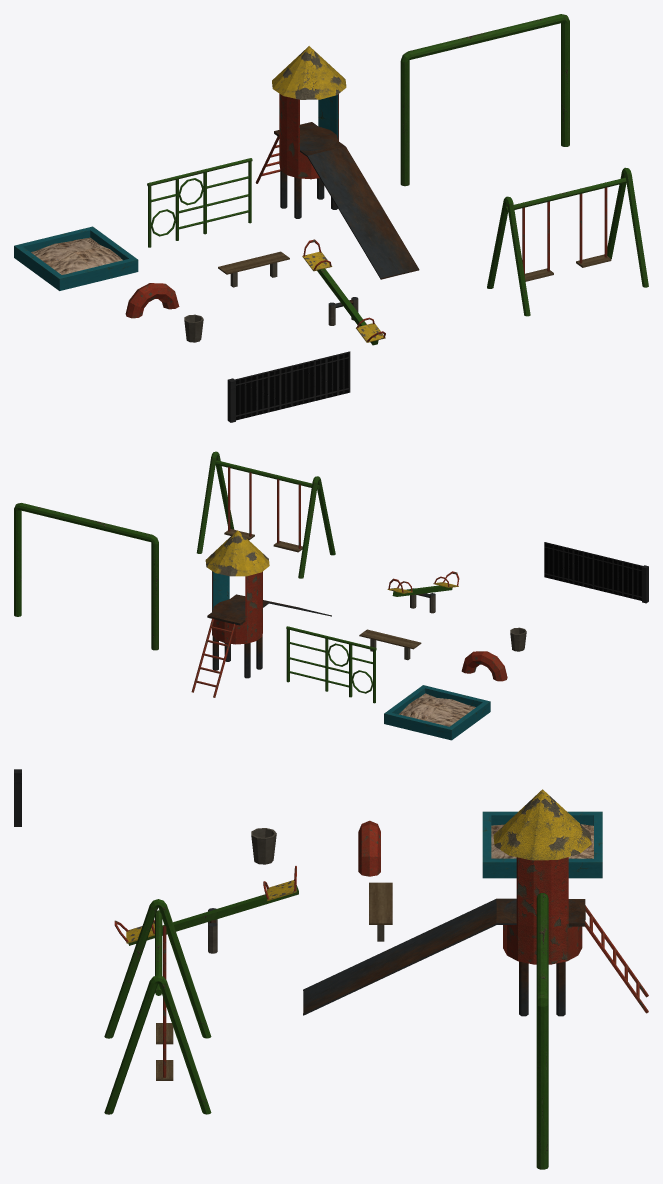
File: Playground.fbx
The picture shows the model from 3 angles, top to bottom: view 1: azimuth 30°, elevation 25°; view 2: azimuth 150°, elevation 25°; view 3: azimuth 270°, elevation 25°; orthographic projection. The views are drawn at different scales.
Parts seen in each view (by area): view 1: Slide, Sandbox, FencePanel, Arch_1, SwingBase, Ladder_2, Seesaw, Arch_2, Bench, Swing.001, Swing; view 2: Slide, Sandbox, FencePanel, Arch_1, SwingBase, Ladder_2, Arch_2, Ladder_1, Seesaw, Bench, Swing, Swing.001; view 3: Slide, SwingBase, Arch_1, Sandbox, Seesaw, Arch_2, Bench, Ladder_1, TrashBucket, Swing.001.
Boxes of the visible parts, left/top/right/bottom form: Slide: left=272, top=46, right=419, bottom=279; Sandbox: left=14, top=226, right=138, bottom=290; FencePanel: left=235, top=351, right=350, bottom=420; Arch_1: left=400, top=14, right=569, bottom=186; SwingBase: left=487, top=167, right=648, bottom=316; Ladder_2: left=147, top=158, right=252, bottom=247; Seesaw: left=302, top=239, right=385, bottom=345; Arch_2: left=125, top=283, right=179, bottom=318; Bench: left=218, top=251, right=289, bottom=287; Swing.001: left=576, top=182, right=611, bottom=267; Swing: left=522, top=201, right=553, bottom=281; Slide: left=205, top=530, right=331, bottom=678; Sandbox: left=384, top=685, right=490, bottom=740; FencePanel: left=544, top=542, right=642, bottom=600; Arch_1: left=14, top=503, right=158, bottom=650; SwingBase: left=196, top=451, right=335, bottom=578; Ladder_2: left=286, top=626, right=376, bottom=703; Arch_2: left=461, top=651, right=507, bottom=681; Ladder_1: left=191, top=618, right=235, bottom=697; Seesaw: left=387, top=571, right=459, bottom=596; Bench: left=359, top=629, right=421, bottom=660; Swing: left=273, top=479, right=302, bottom=552; Swing.001: left=224, top=467, right=254, bottom=540; Slide: left=303, top=789, right=591, bottom=1016; SwingBase: left=104, top=899, right=211, bottom=1114; Arch_1: left=536, top=893, right=548, bottom=1169; Sandbox: left=482, top=811, right=602, bottom=878; Seesaw: left=114, top=866, right=298, bottom=945; Arch_2: left=358, top=820, right=380, bottom=876; Bench: left=369, top=882, right=392, bottom=941; Ladder_1: left=585, top=905, right=648, bottom=1013; TrashBucket: left=251, top=828, right=276, bottom=864; Swing.001: left=156, top=962, right=173, bottom=1080.
Bounding box in the file's own units: 1368 × 397 × 1059.
2 materials, 2 textured.
